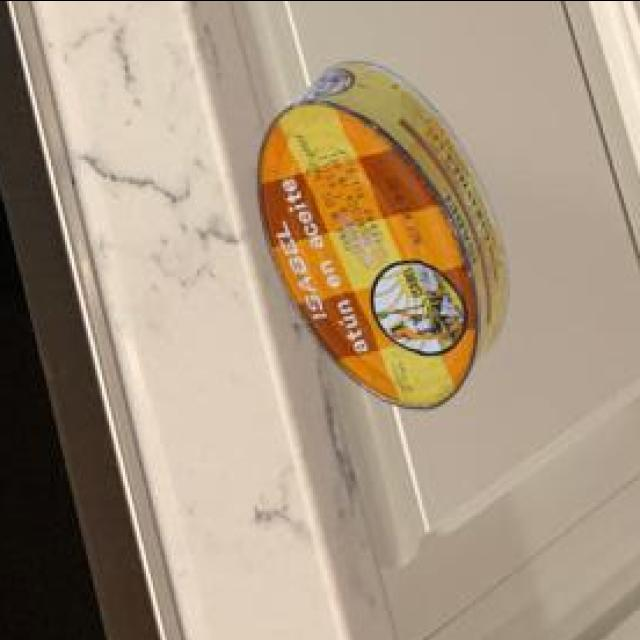logam: (254, 64, 504, 412)
